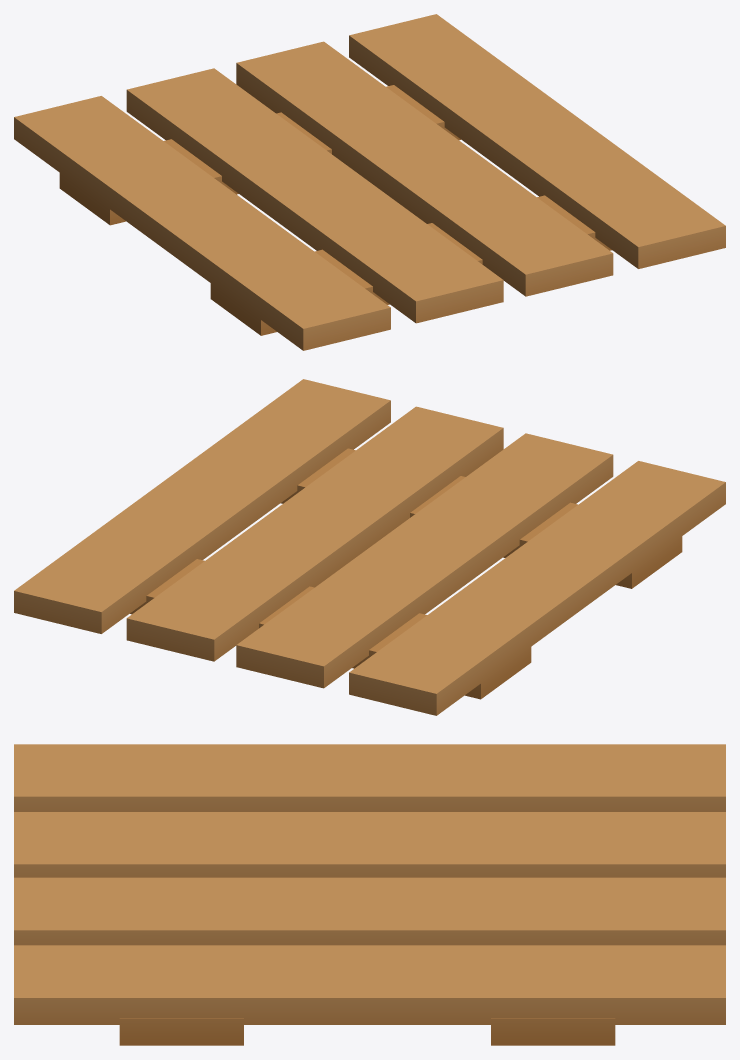
File: Polet.fbx
3 views of the same model, one above another, from view 1: azimuth 30°, elevation 25°; view 2: azimuth 150°, elevation 25°; view 3: azimuth 270°, elevation 25° (orthographic). The views are drawn at different scales.
Parts seen in each view (by area): view 1: Paletka_005; view 2: Paletka_005; view 3: Paletka_005.
Boxes of the visible parts, box(x1,y1,x2,y2) form: Paletka_005: box(14, 14, 725, 350); Paletka_005: box(14, 379, 725, 715); Paletka_005: box(14, 744, 725, 1045).
Bounding box in the file's own units: 3183 × 278 × 3771.
